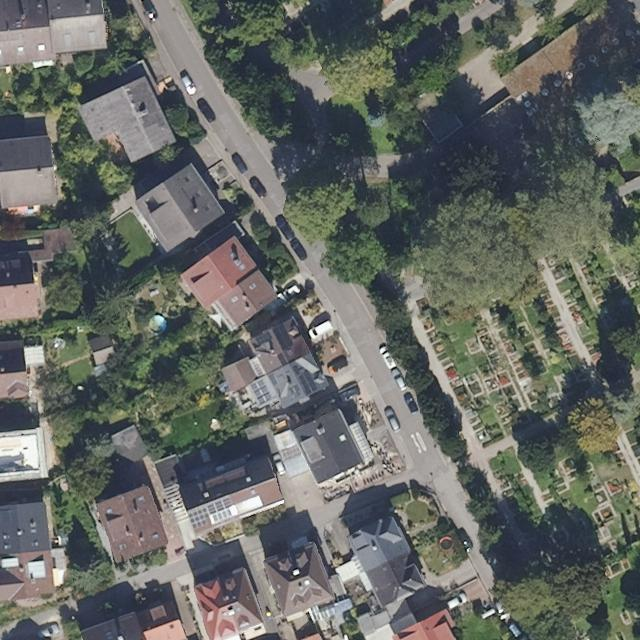PV: (187, 495, 235, 530), (272, 322, 296, 353), (250, 378, 273, 407), (297, 371, 318, 396), (255, 330, 273, 348), (287, 383, 303, 400)
